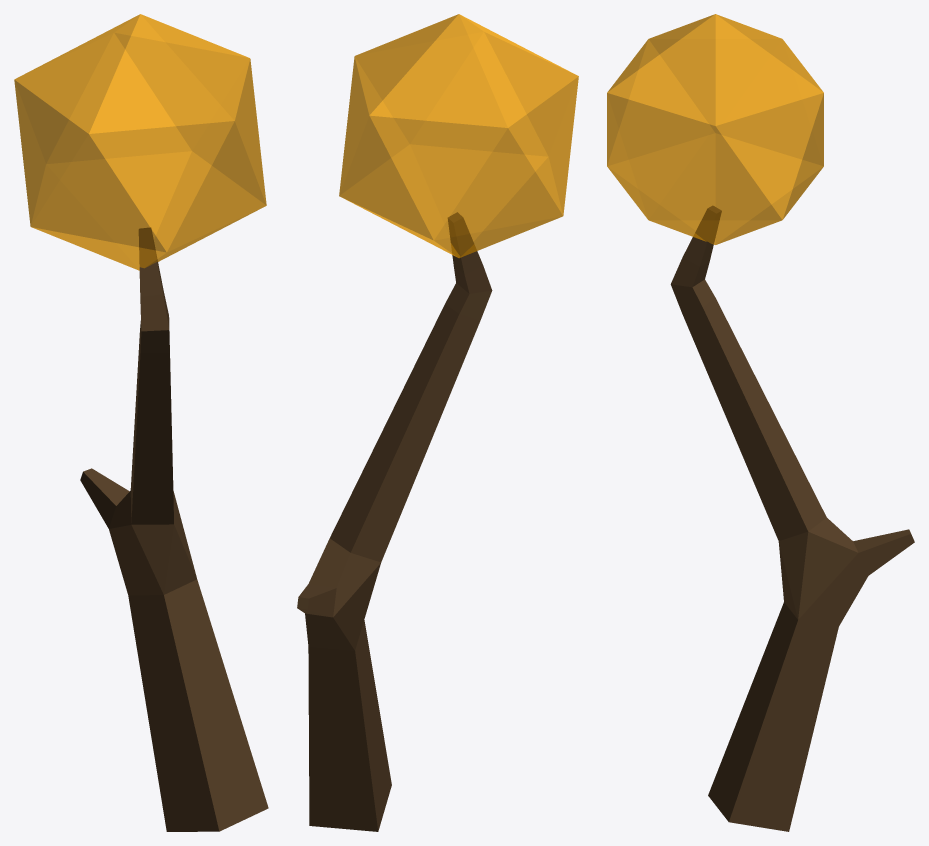
File: tree3.glb
3 renders of one model, left to right at view 1: azimuth 30°, elevation 25°; view 2: azimuth 150°, elevation 25°; view 3: azimuth 270°, elevation 25°, orthographic. The views are drawn at different scales.
Parts seen in each view (by area): view 1: Icosphere.006, Cube.001; view 2: Icosphere.006, Cube.001; view 3: Cube.001, Icosphere.006.
Boxes of the visible parts, left/top/right/bottom form: Icosphere.006: left=14, top=14, right=266, bottom=270; Cube.001: left=80, top=227, right=268, bottom=831; Icosphere.006: left=339, top=14, right=578, bottom=258; Cube.001: left=297, top=212, right=492, bottom=831; Cube.001: left=670, top=206, right=914, bottom=831; Icosphere.006: left=607, top=14, right=823, bottom=244.
Bounding box in the file's own units: 3.07 × 10.2 × 3.71.
